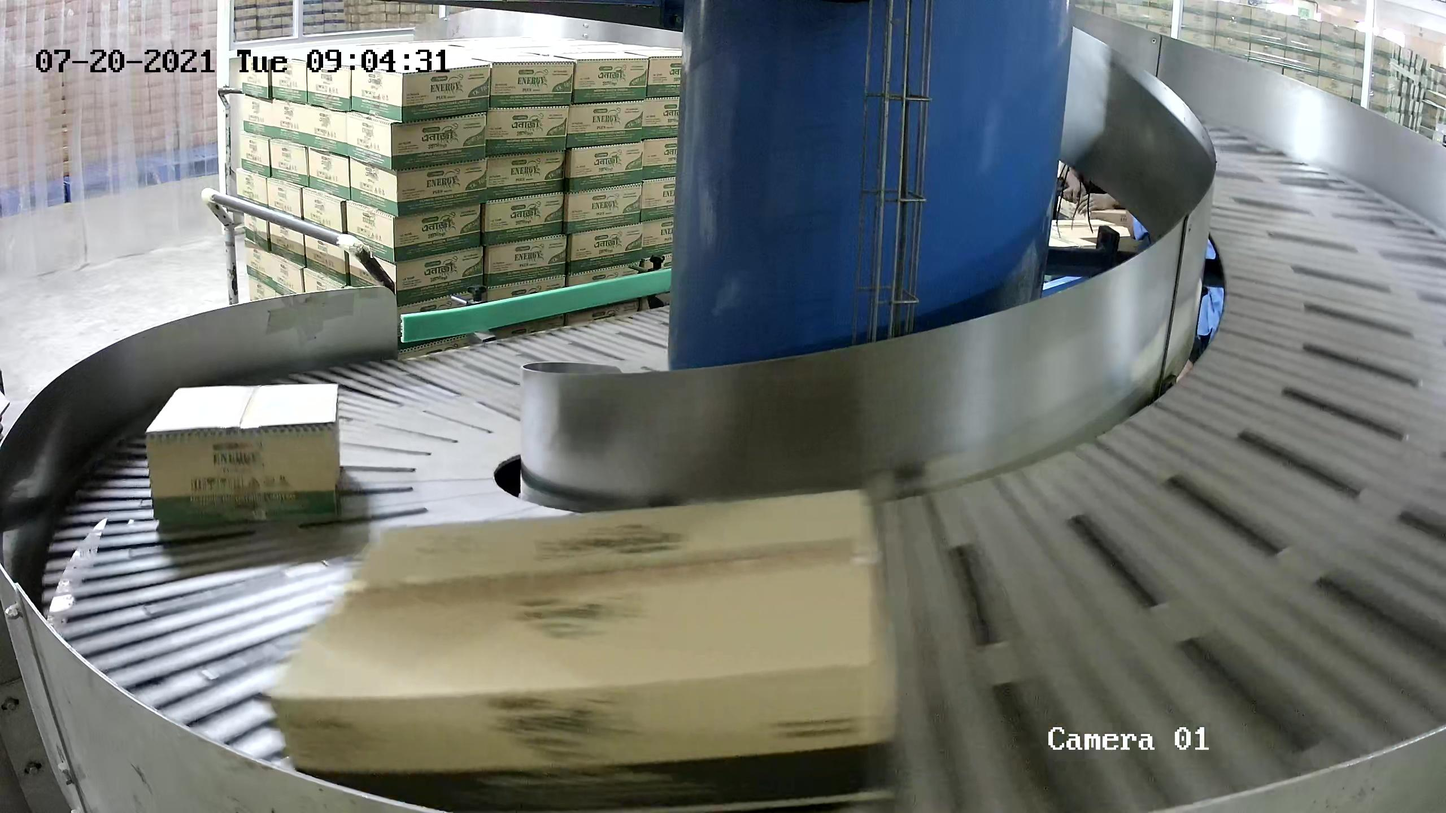Box: (267, 488, 906, 813), (145, 384, 342, 530)
